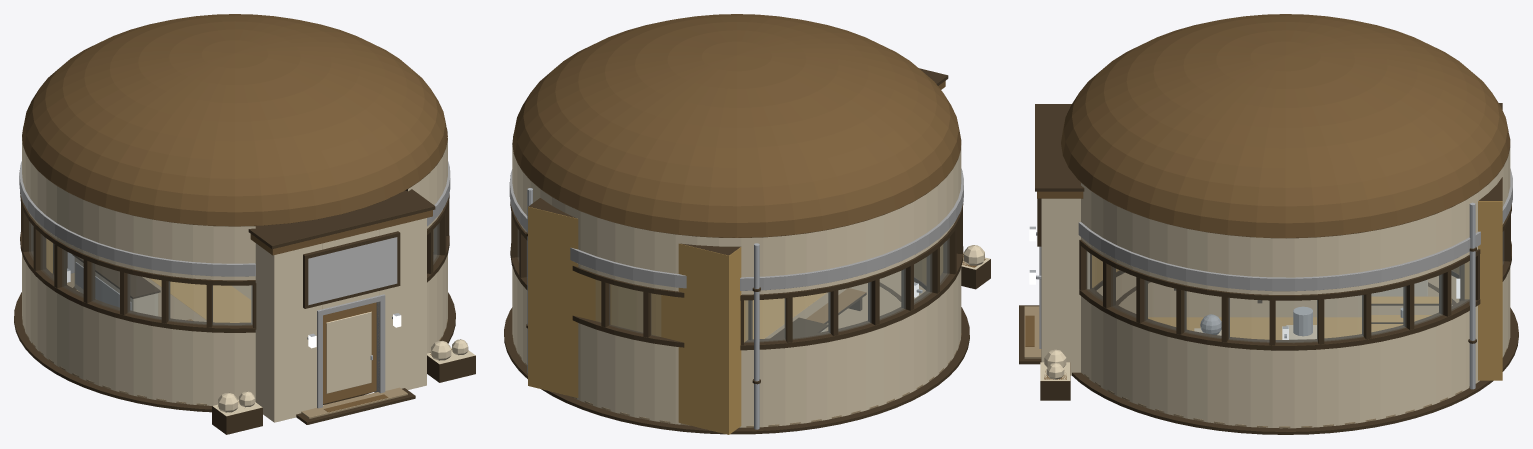
The model's file is content2_v1.glb.
3 views of the same model, side by side, from view 1: azimuth 30°, elevation 25°; view 2: azimuth 150°, elevation 25°; view 3: azimuth 270°, elevation 25° (orthographic). The views are drawn at different scales.
Parts seen in each view (by area): view 1: SM_content2_v1_Shell, SM_content2_v1_Door, SM_content2_v1_Sign; view 2: SM_content2_v1_Shell; view 3: SM_content2_v1_Shell.
Part boxes in pixels (box(x1,y1,x2,y2)): SM_content2_v1_Shell: box(14, 14, 475, 434); SM_content2_v1_Door: box(323, 302, 376, 404); SM_content2_v1_Sign: box(308, 237, 397, 305); SM_content2_v1_Shell: box(504, 14, 990, 434); SM_content2_v1_Shell: box(1019, 14, 1518, 434).
Size of the model in its own units: 12.04 by 8 by 12.9.
